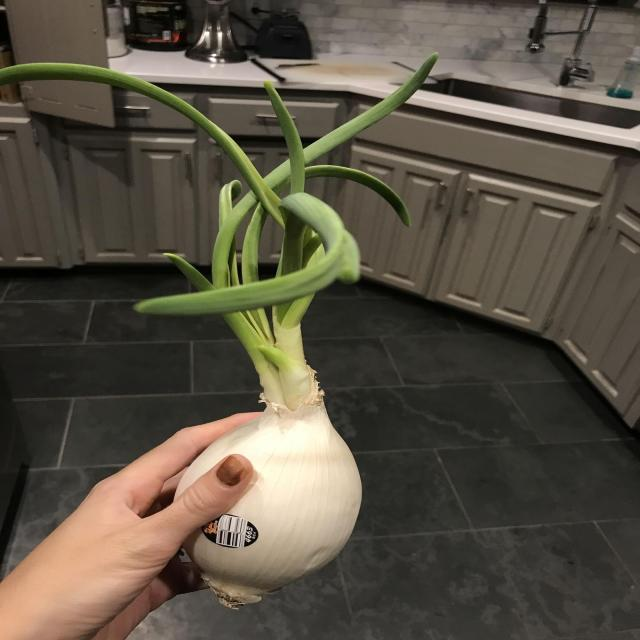sprouting: (86, 57, 436, 623)
